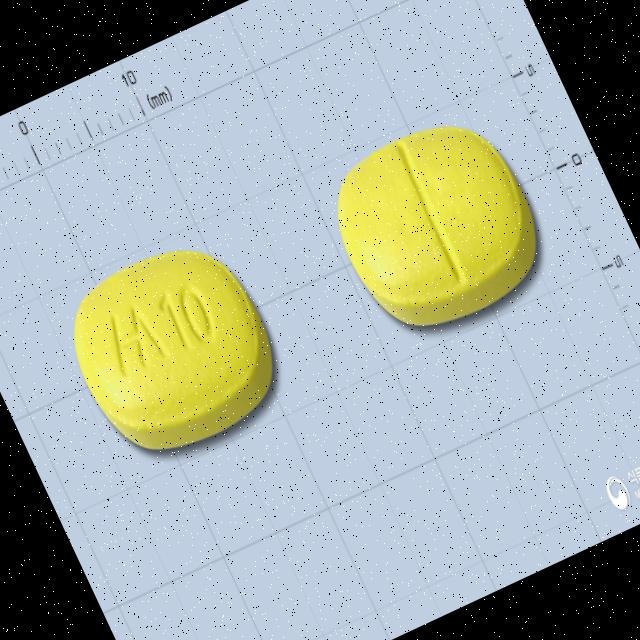Clarid - 500mg: (46, 221, 306, 485)
